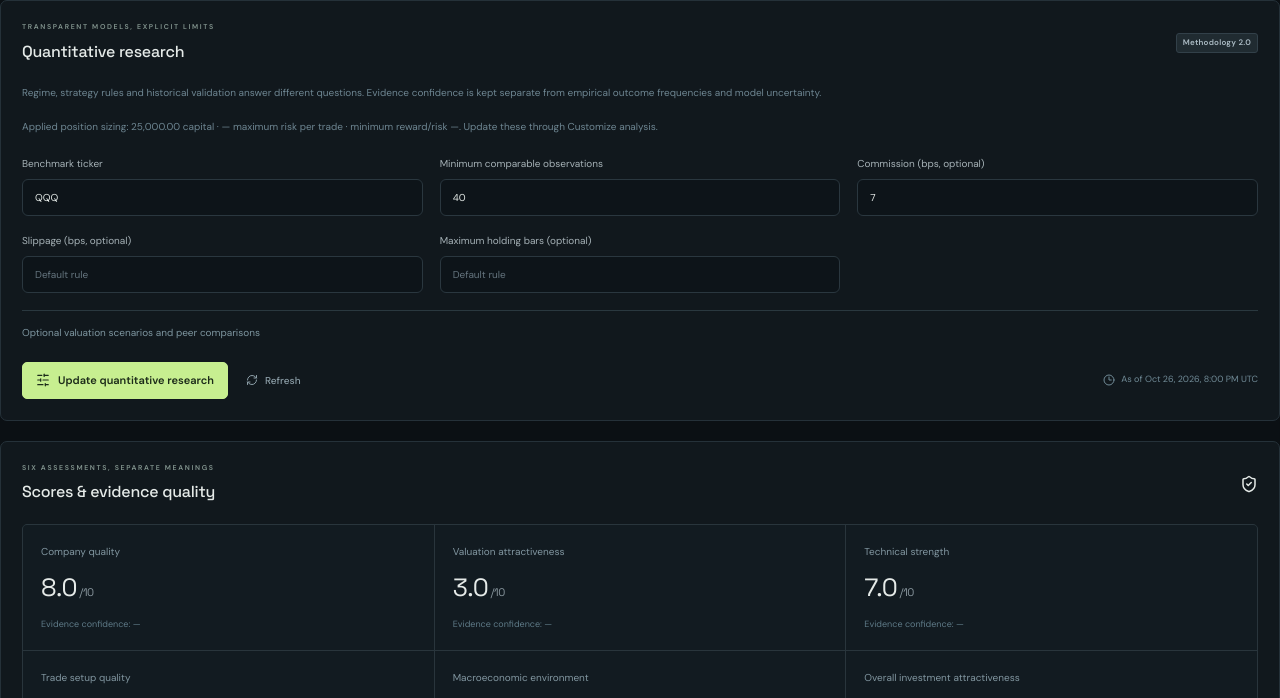
Scenario: quantitative research display › restores the last applied quantitative assumptions when returning to the view
Check: the field labelled "Benchmark ticker" holds "QQQ", box [22,178,423,216]
Click the heading "Optional valuation scenarios and peer comparisons".
click(141, 332)  # box [22,326,260,338]
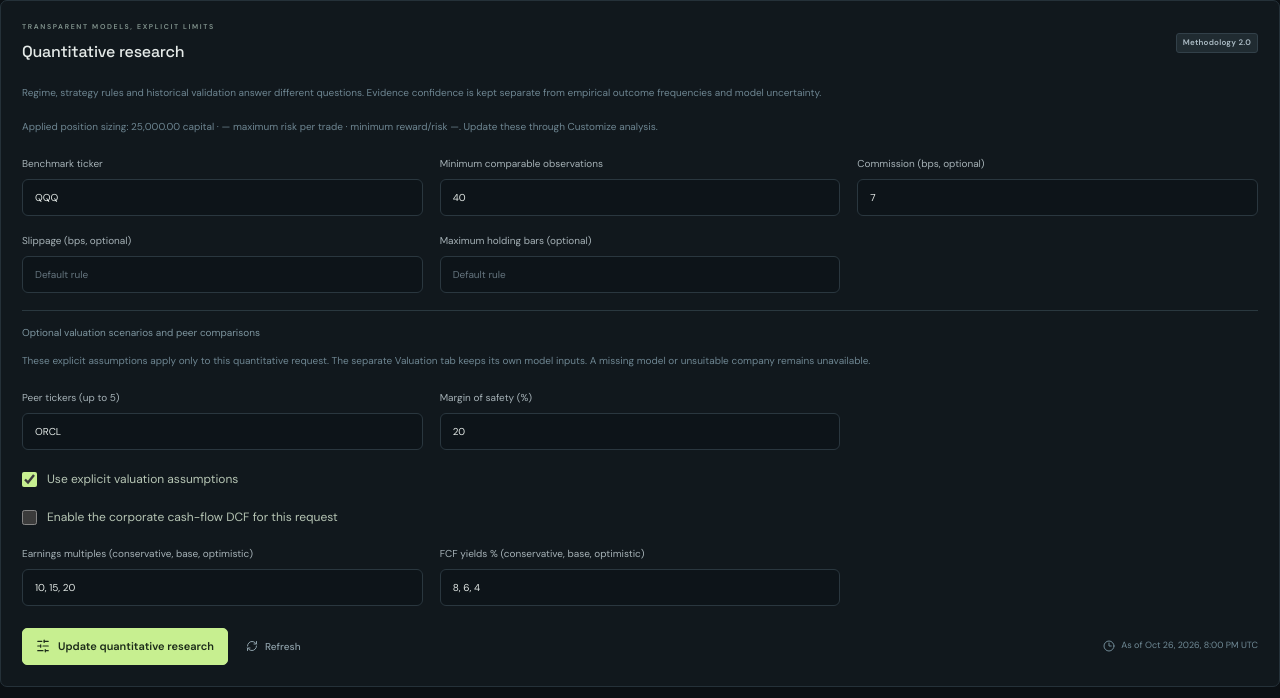
Check: the checkbox labelled "Use explicit valuation assumptions" is checked, box [22,472,37,486]
Check: the field labelled "Earnings multiples (conservative, base, optimistic)" holds "10, 15, 20", box [22,568,423,606]
Check: the field labelled "FCF yields % (conservative, base, optimistic)" holds "8, 6, 4", box [440,568,840,606]
